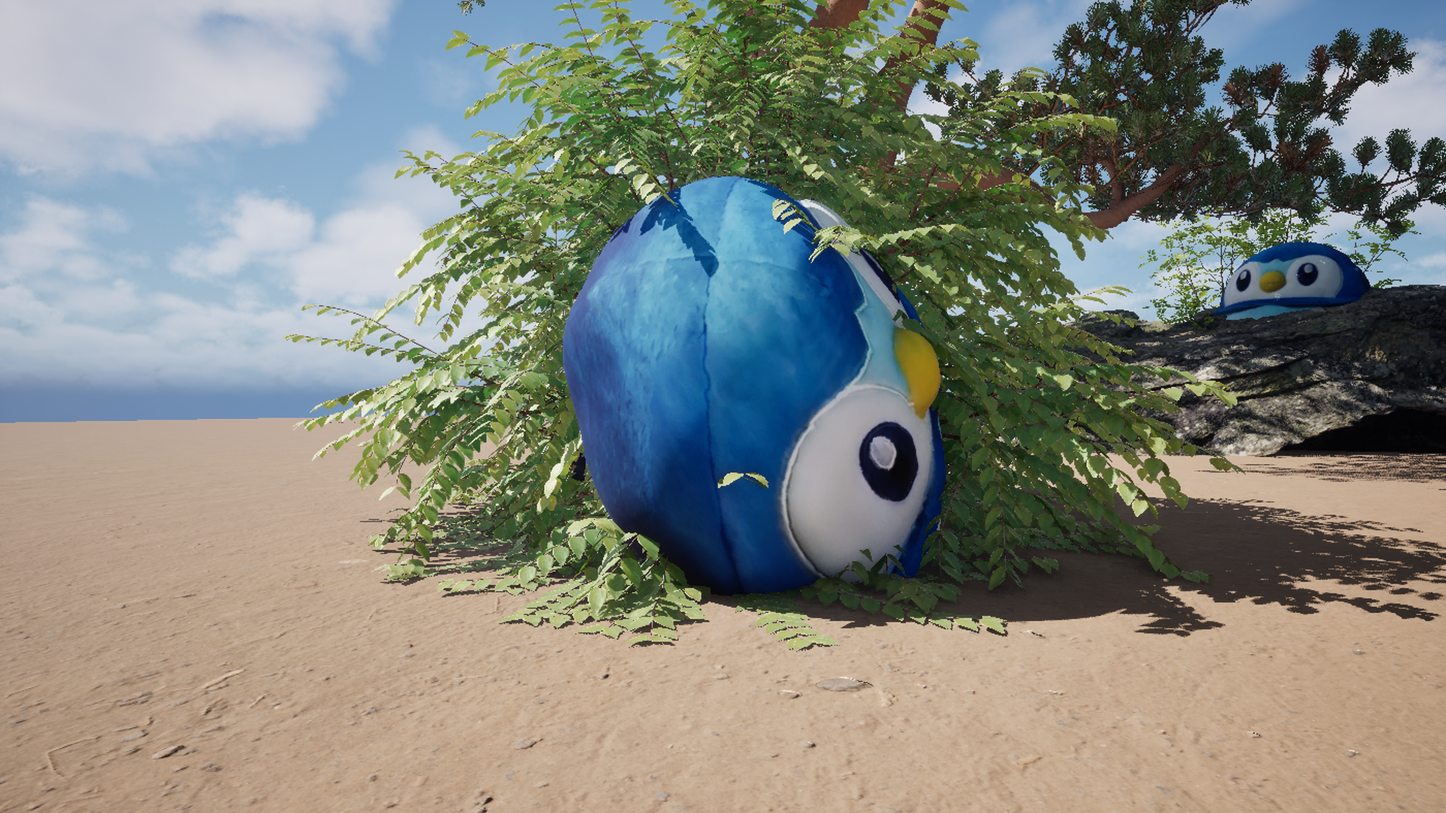Piplup: (273, 0, 950, 813)
